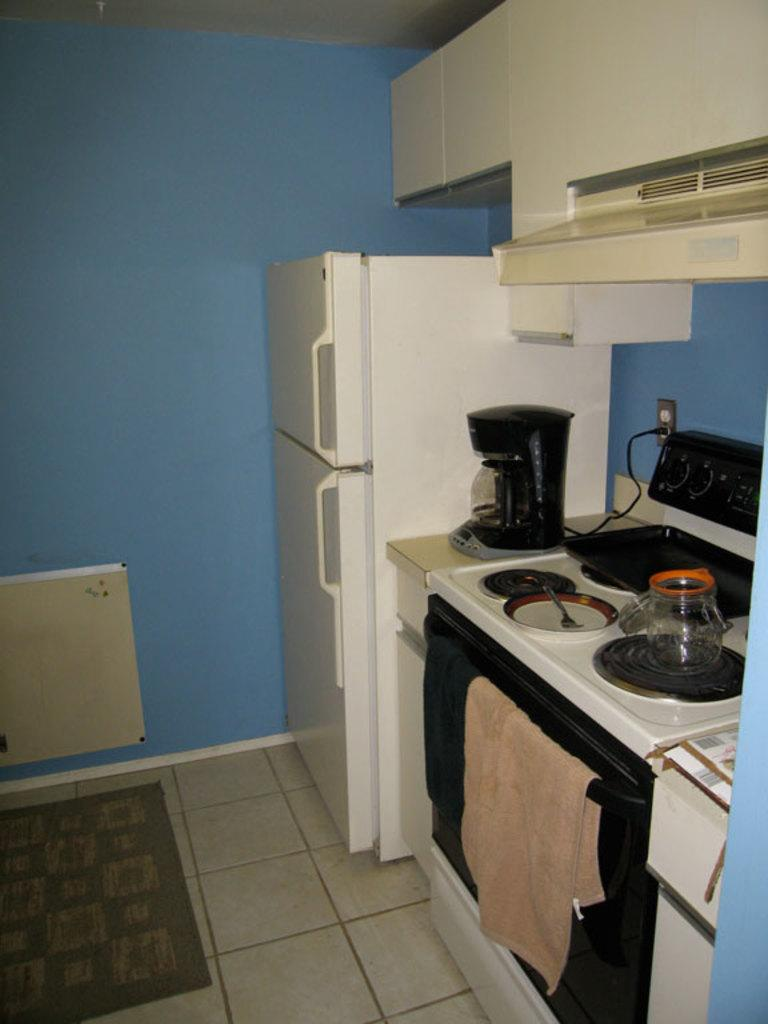cabinet_door: (656, 905, 712, 1024), (398, 643, 428, 856), (658, 816, 724, 908), (394, 566, 424, 633)
handle: (650, 864, 716, 952), (305, 332, 339, 466), (314, 471, 343, 600), (394, 614, 425, 658)
